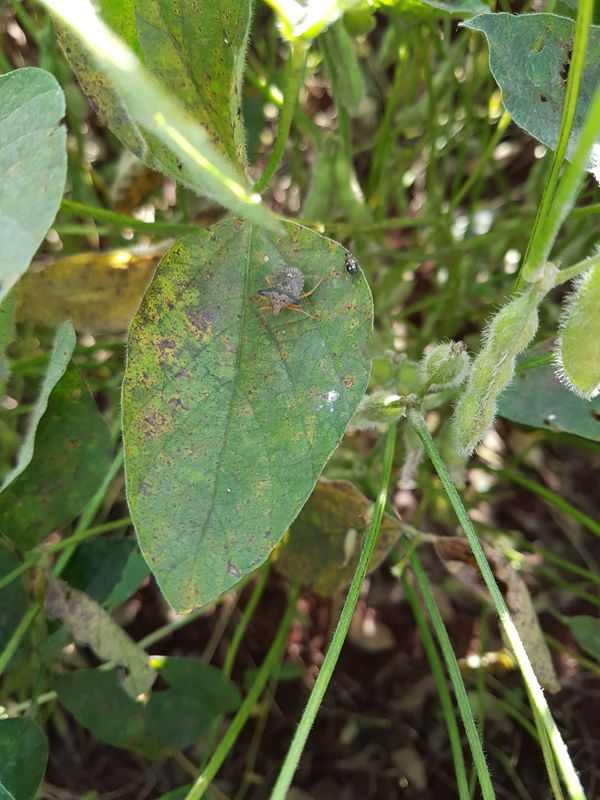Euschistus_heros_adulto: (251, 259, 328, 332)
